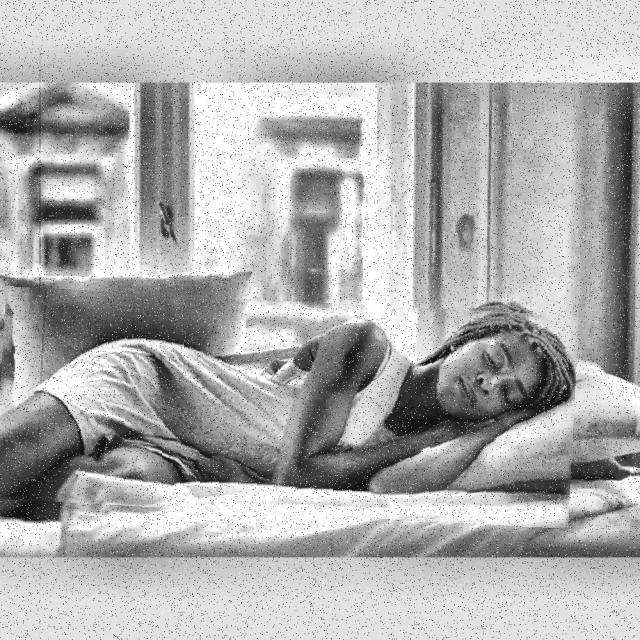Not_Supine: (0, 312, 576, 500)
